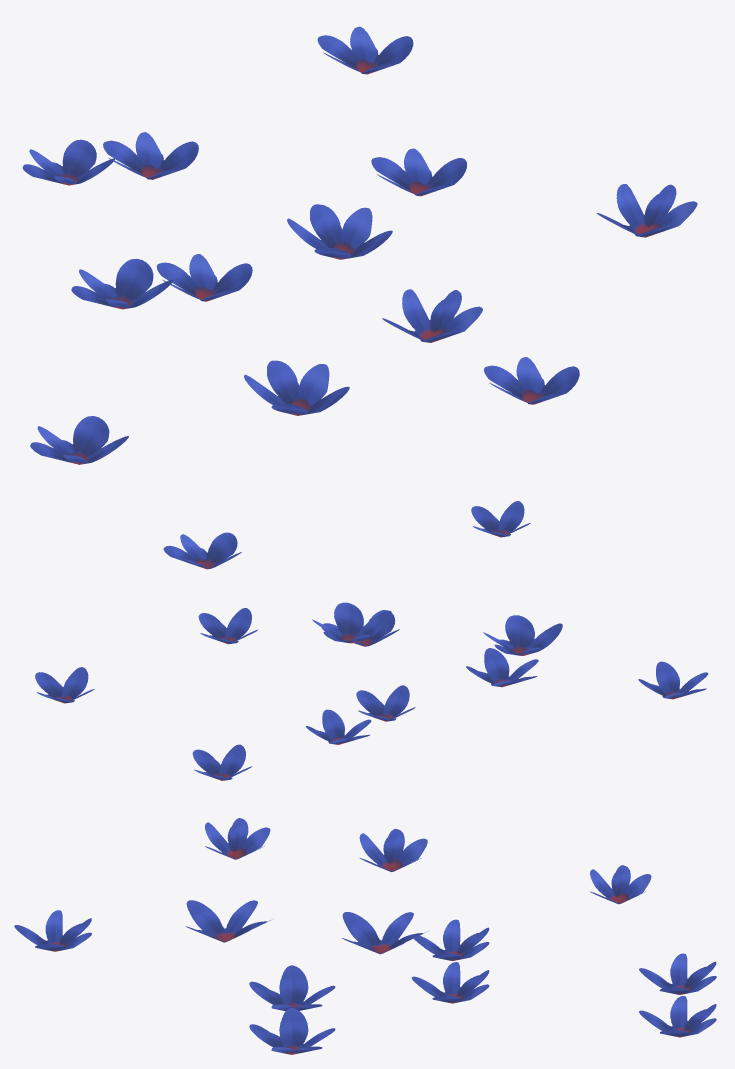
File: F_SandFlower_A.FBX
The picture shows the model from 3 angles, top to bottom: view 1: azimuth 30°, elevation 25°; view 2: azimuth 150°, elevation 25°; view 3: azimuth 270°, elevation 25°; orthographic projection. The views are drawn at different scales.
Visible parts, largest first — view 1: F_SandFlower_A; view 2: F_SandFlower_A; view 3: F_SandFlower_A.
Boxes of the visible parts, x1,y1,x2,y2 form: F_SandFlower_A: [22, 26, 697, 464]; F_SandFlower_A: [35, 501, 708, 780]; F_SandFlower_A: [14, 818, 716, 1054].
Bounding box in the file's own units: 131 × 16.07 × 137.
1 material, 1 textured.
